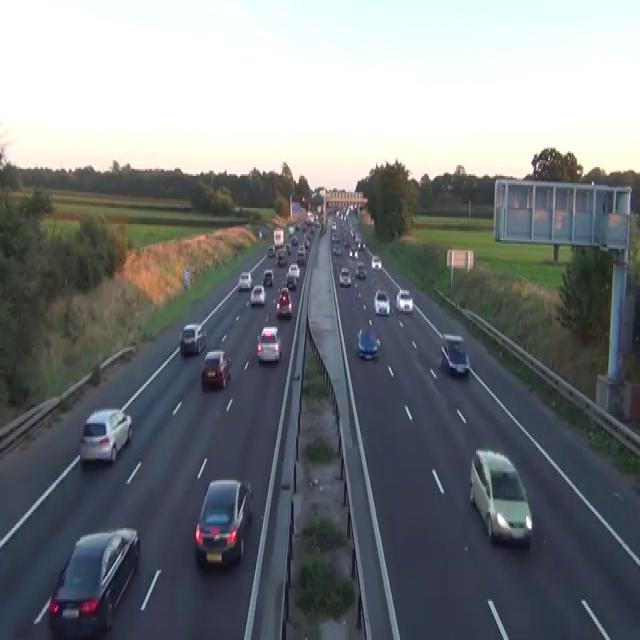Car: (48, 526, 140, 638), (468, 448, 533, 546), (194, 478, 253, 569), (79, 407, 132, 464), (440, 332, 470, 377), (200, 349, 231, 391), (256, 325, 281, 363), (179, 324, 206, 356), (356, 327, 380, 359), (275, 288, 292, 316), (395, 288, 413, 313), (373, 290, 390, 314), (441, 332, 463, 350), (250, 284, 265, 306), (237, 270, 252, 290), (285, 270, 297, 290), (339, 267, 351, 286), (262, 268, 274, 286), (355, 261, 366, 279), (288, 263, 300, 279), (276, 249, 286, 265), (297, 245, 305, 263), (371, 254, 381, 268), (348, 247, 358, 260), (277, 285, 289, 295), (332, 244, 341, 256), (331, 231, 339, 244), (267, 244, 275, 256), (354, 231, 361, 242), (285, 242, 291, 254), (291, 235, 298, 245), (313, 215, 319, 226), (358, 240, 365, 249), (303, 238, 309, 247), (331, 221, 336, 231), (294, 224, 301, 231), (288, 226, 294, 234), (309, 226, 315, 234), (302, 224, 307, 233), (258, 228, 262, 238)
Truck: (273, 228, 284, 245)
